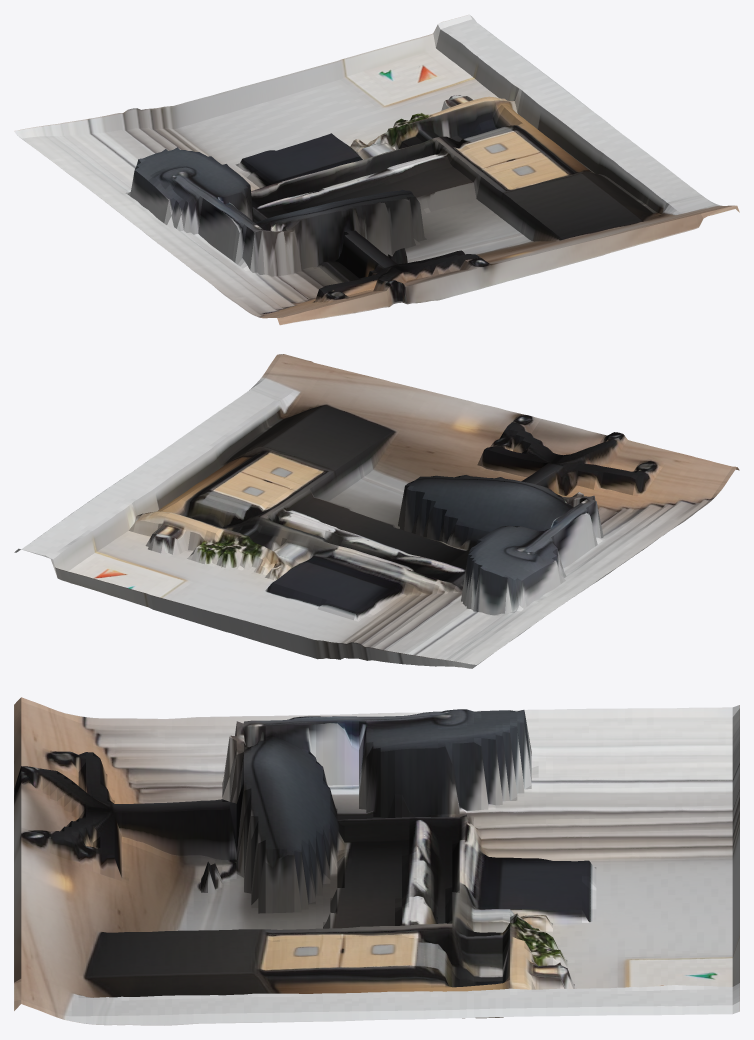
File: Desk_model.fbx
The picture shows the model from 3 angles, top to bottom: view 1: azimuth 30°, elevation 25°; view 2: azimuth 150°, elevation 25°; view 3: azimuth 270°, elevation 25°; orthographic projection. The views are drawn at different scales.
Visible parts, largest first — view 1: Relief_2_5D; view 2: Relief_2_5D; view 3: Relief_2_5D.
Part boxes in pixels (box(x1,y1,x2,y2)): Relief_2_5D: box(14, 14, 739, 325); Relief_2_5D: box(14, 354, 739, 668); Relief_2_5D: box(14, 697, 739, 1025).
Size of the model in its own units: 2 by 0.2821 by 2.
1 material, 1 textured.
